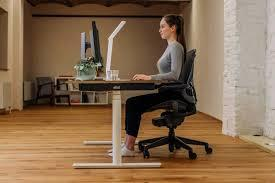Good Sitting Posture: (106, 8, 207, 115)
